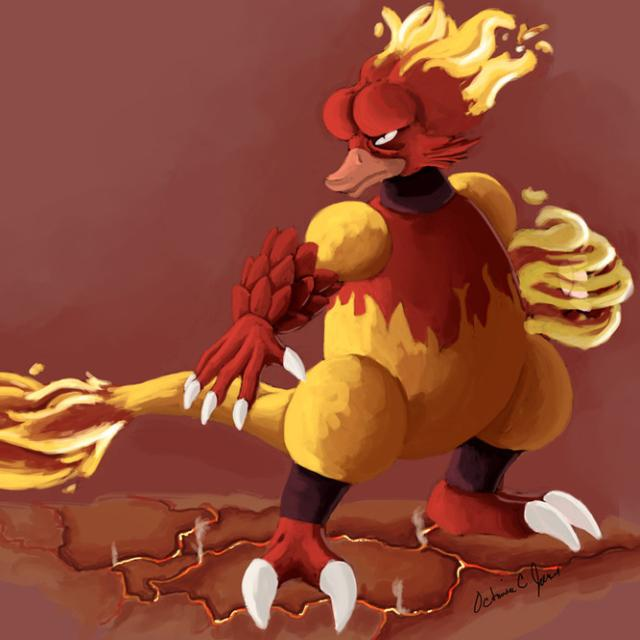Magmar: (217, 0, 611, 629)
